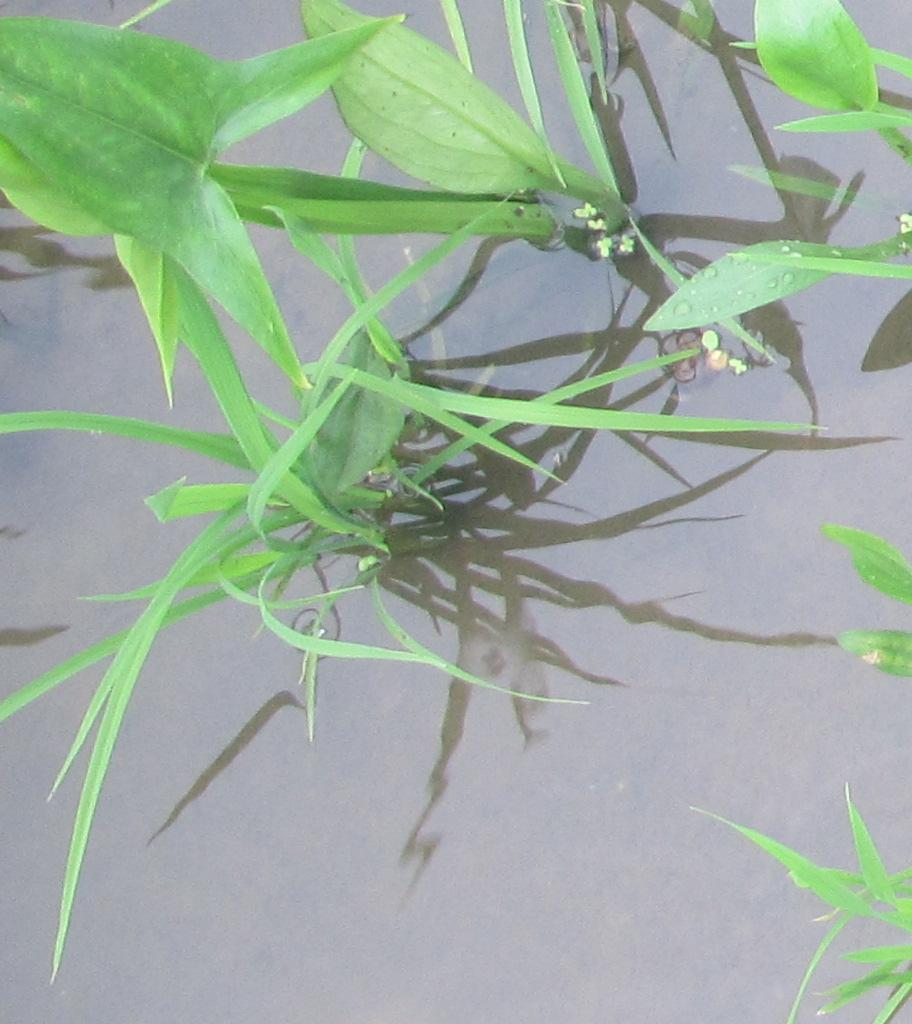Weed: (8, 24, 336, 297), (302, 7, 574, 208), (739, 2, 900, 317)
